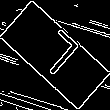L_SW: (28, 26, 82, 84)
